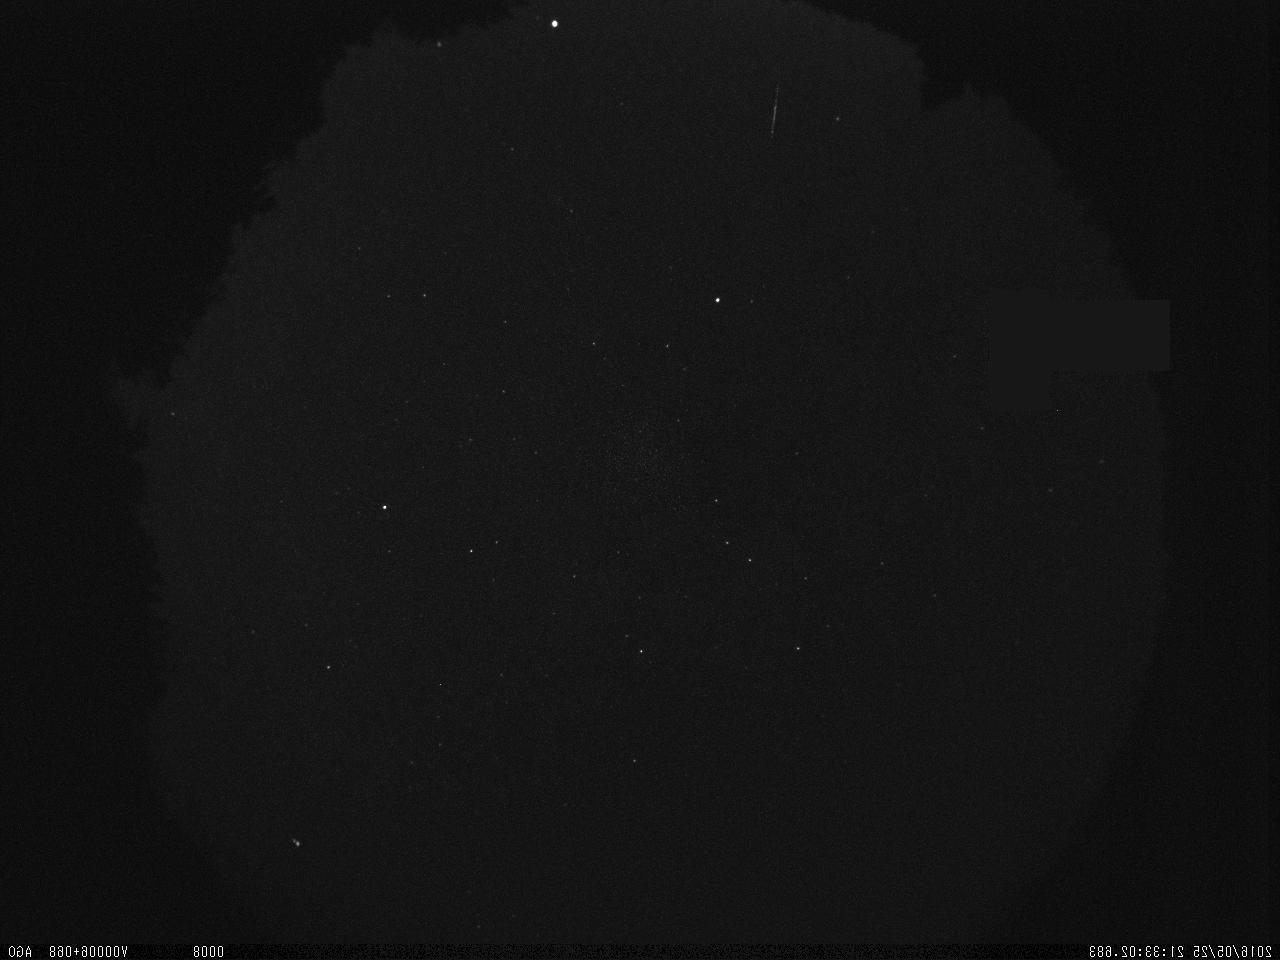meteor: (765, 78, 782, 141)
